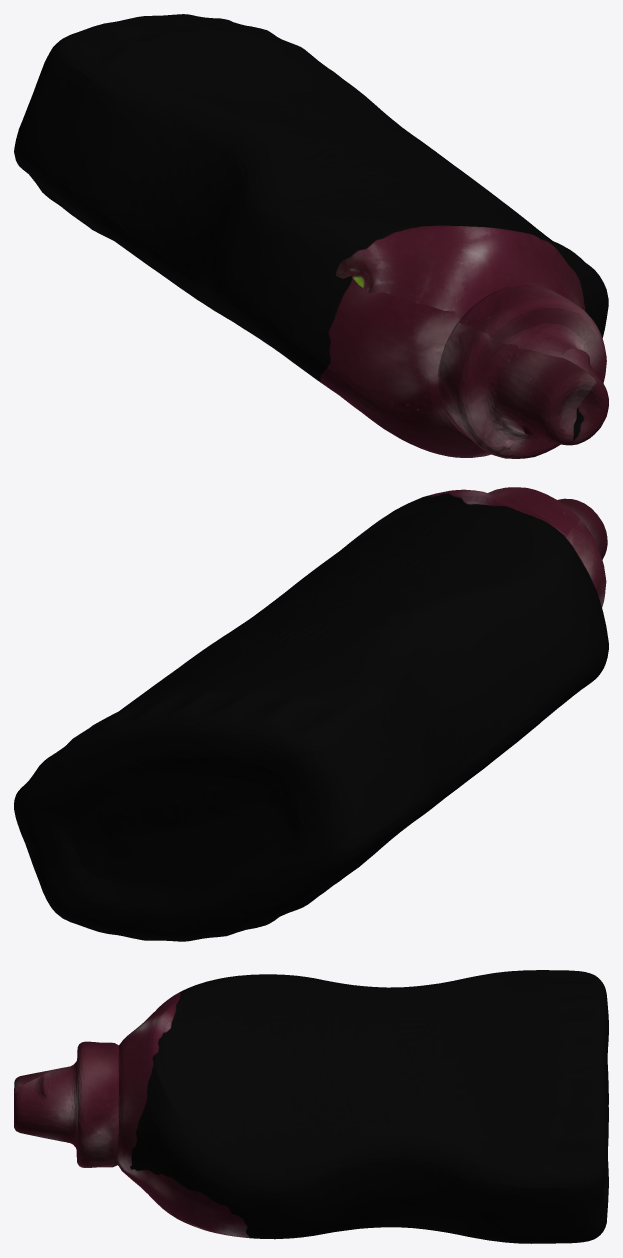
3 views of the same model, one above another, from view 1: azimuth 30°, elevation 25°; view 2: azimuth 150°, elevation 25°; view 3: azimuth 270°, elevation 25° (orthographic). The views are drawn at different scales.
Visible parts, largest first — view 1: node; view 2: node; view 3: node.
Boxes of the visible parts, x1,y1,x2,y2 form: node: (14,14,608,458); node: (14,487,608,941); node: (14,970,608,1243).
Bounding box in the file's own units: 0.0972 × 0.0666 × 0.1913.
